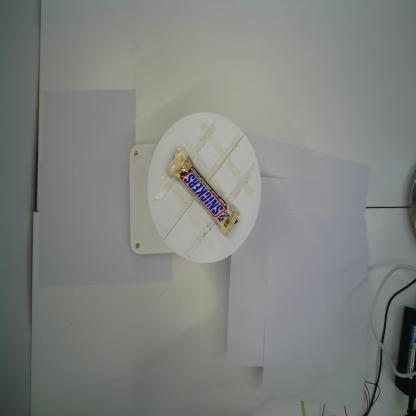Chocolate: (166, 146, 240, 238)
